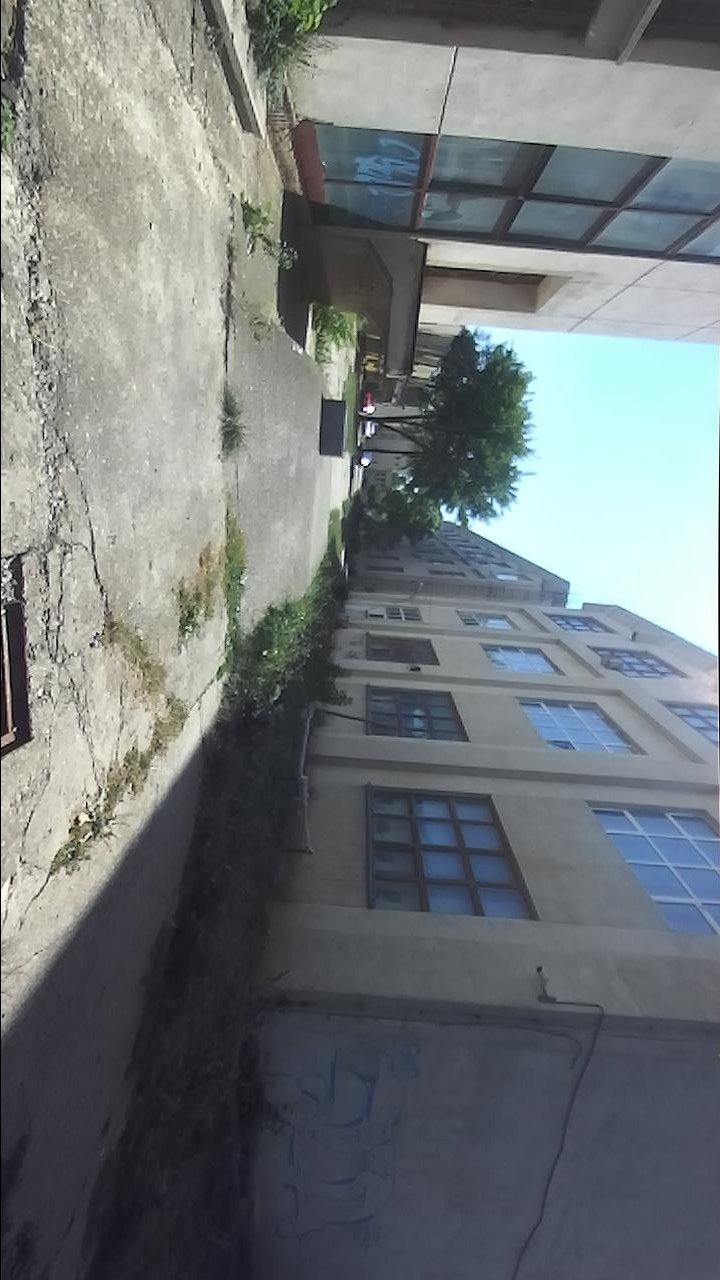drain: (1, 591, 37, 768)
